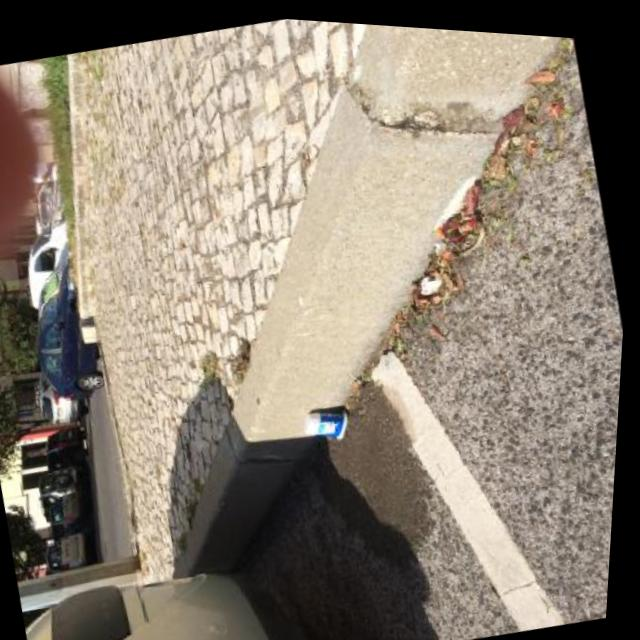plastic: (300, 403, 354, 448)
